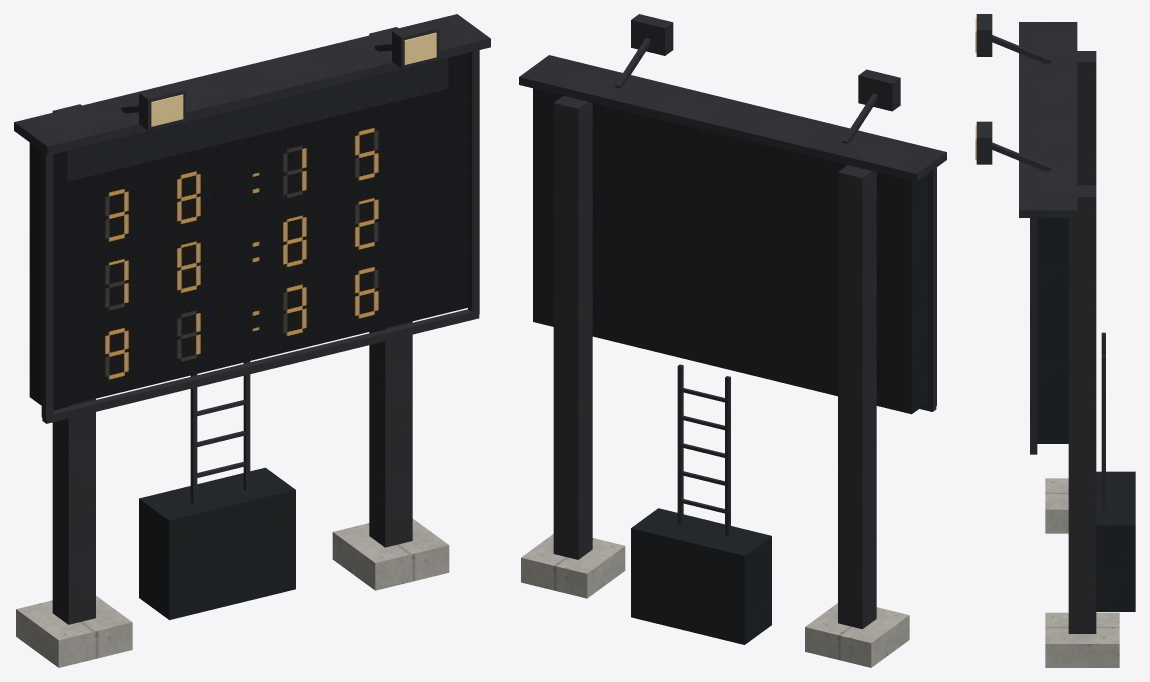
File: tour_scoreboard.fbx
The picture shows the model from 3 angles, left to right: view 1: azimuth 30°, elevation 25°; view 2: azimuth 150°, elevation 25°; view 3: azimuth 270°, elevation 25°; orthographic projection. The views are drawn at different scales.
Visible parts, largest first — view 1: tour_scoreboard_LOD0; view 2: tour_scoreboard_LOD0; view 3: tour_scoreboard_LOD0.
Part boxes in pixels (<box>): tour_scoreboard_LOD0: <box>14,14,490,667</box>; tour_scoreboard_LOD0: <box>519,14,946,667</box>; tour_scoreboard_LOD0: <box>975,14,1135,667</box>.
Size of what is drawn, in the model's own units: 4.2 by 5.3 by 1.51.
Materials: 1 (1 with a texture image).
